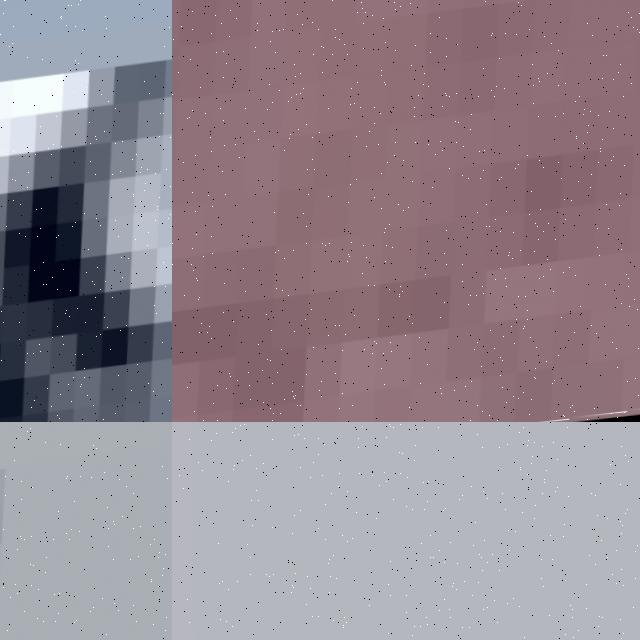0: (0, 0, 172, 422), (0, 422, 172, 640)
drone: (172, 0, 640, 422)
